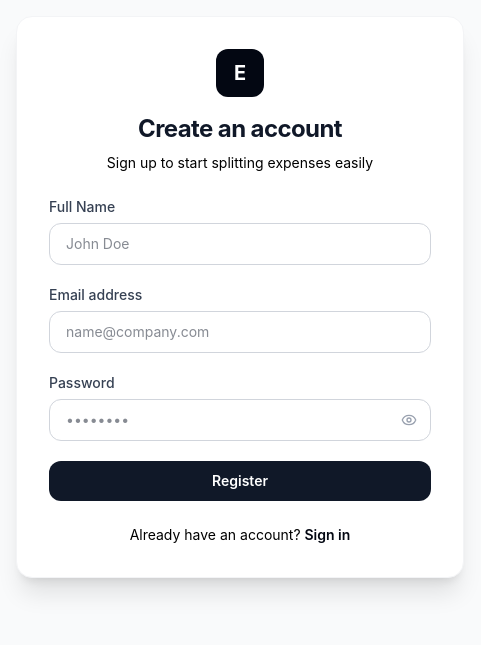
Test case: Register Component › shows validation errors for empty fields on submit
Click the button "Register": click(240, 481) [49,461,431,501]
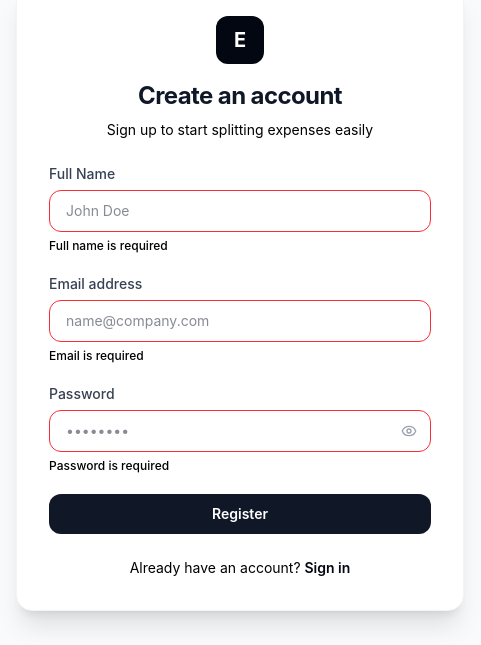
Expected: the text "Full name is required" is shown, [49,238,168,253]
Expected: the text "Email is required" is shown, [49,348,144,363]
Expected: the text "Password is required" is shown, [49,458,169,473]
